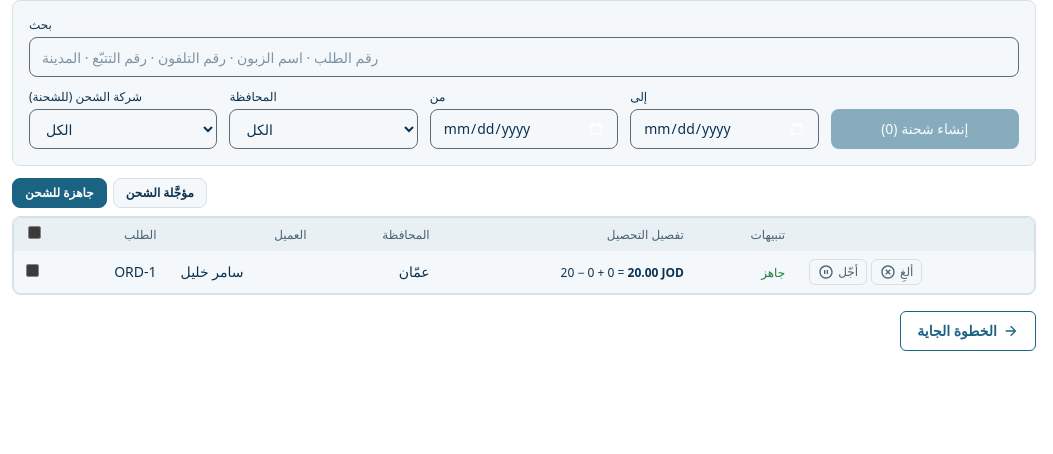
Test: a courier sent to by API › offers «رحّل» first, says why, and names the print that would come out without their barcode
The width and height of the screenshot is (1053, 454).
Check: the text "سامر خليل" is shown, box 180,262 -> 244,281
Step 1. Select "الباشا" in the dropdown labelled "شركة الشحن (للشحنة)" → (123, 129), box 29,109 -> 217,149
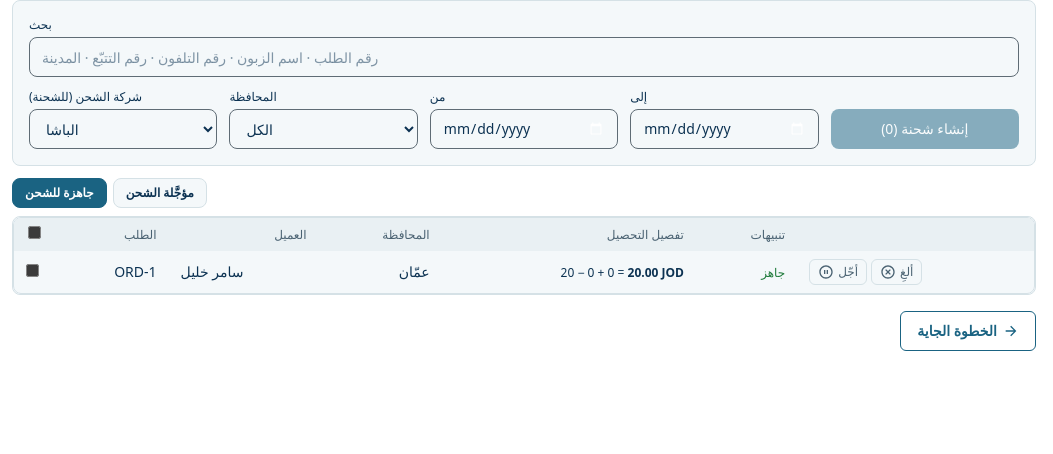
Step 2. Click the checkbox named "اختر الكل" → (34, 232), box 28,226 -> 40,239
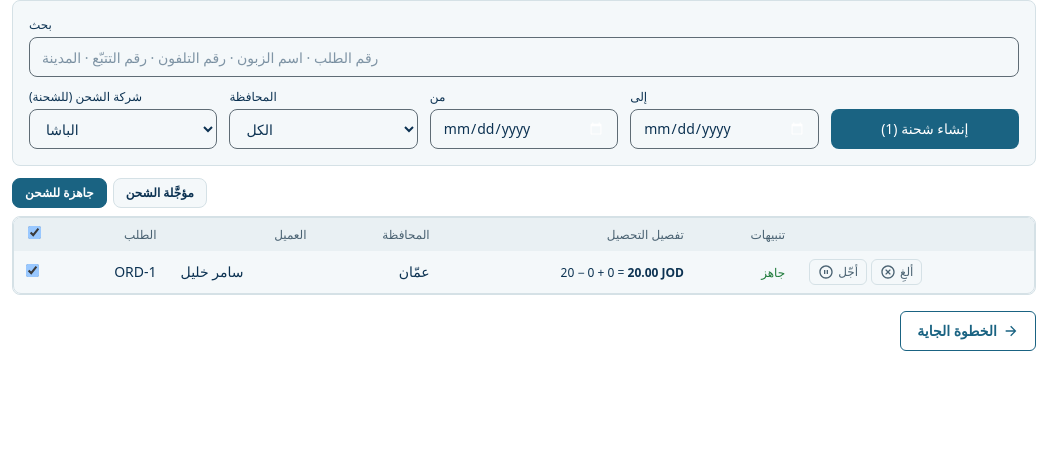
Step 3. Click the button "إنشاء شحنة (1)" → (925, 129), box 831,109 -> 1019,149
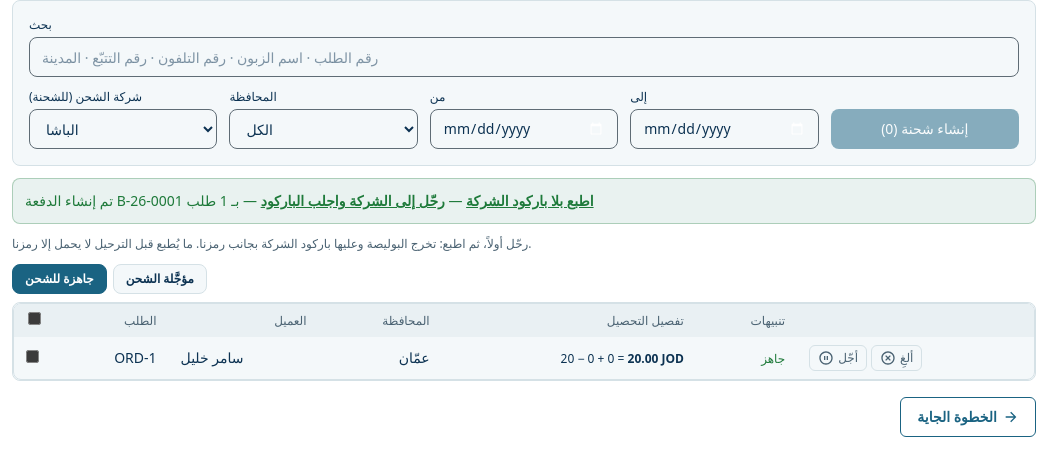
Check: the text "تم إنشاء الدفعة B-26-0001" is shown, box 25,191 -> 239,210
Check: the button "رحّل إلى الشركة واجلب الباركود" is shown, box 261,191 -> 445,211
Check: the text "ما يُطبع قبل الترحيل لا يحمل إلا رمزنا" is shown, box 12,235 -> 532,252
